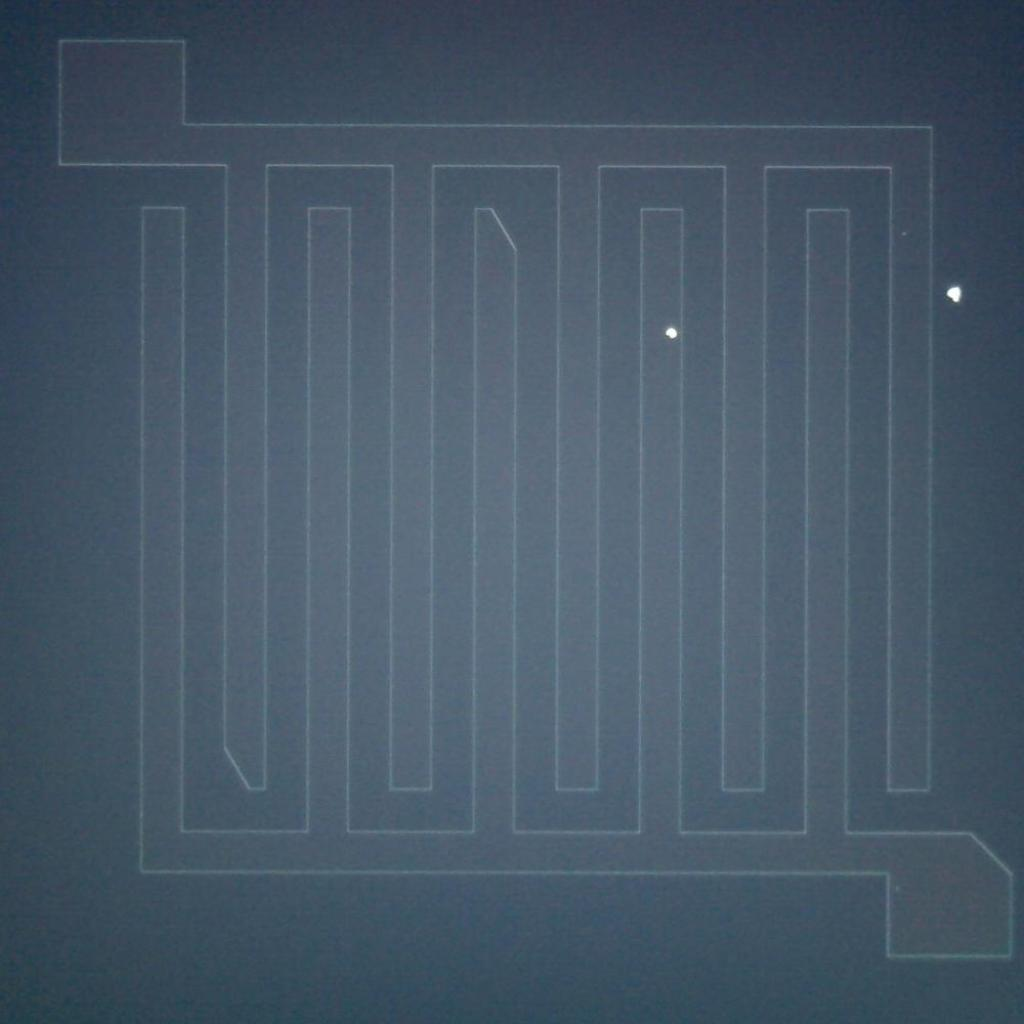dot: (946, 287, 961, 302), (665, 328, 678, 339), (894, 886, 900, 892), (901, 232, 907, 238)
